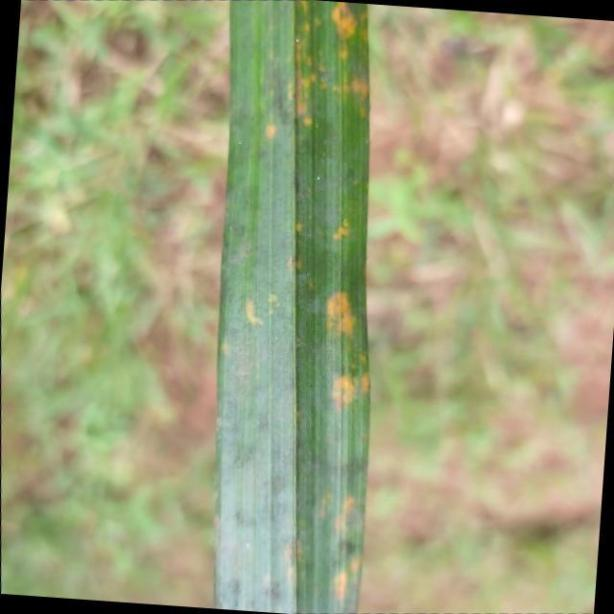Kalium: (212, 0, 372, 614)
